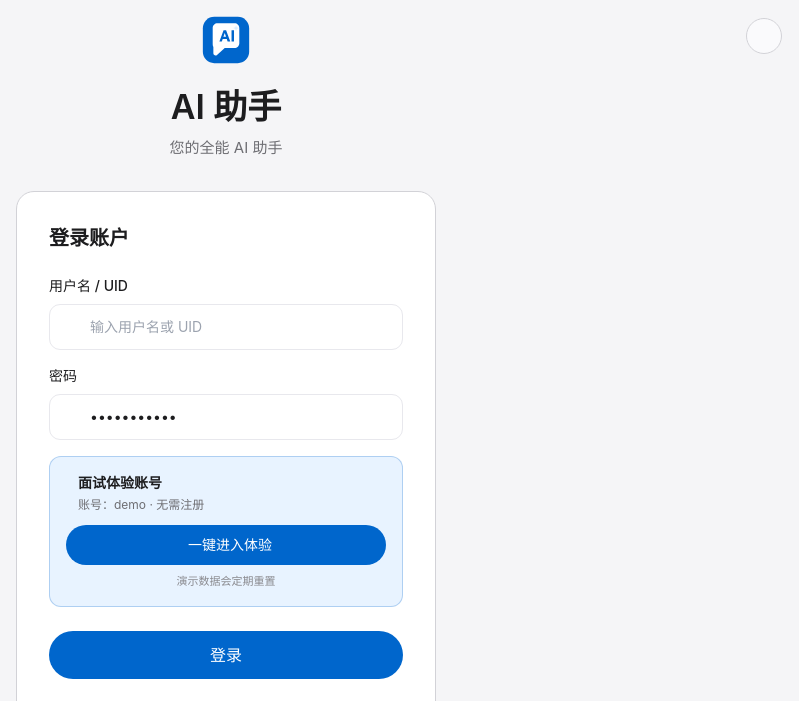
Test: Login › 体验账号接口冲突时给出维护提示
Click the button "一键进入体验".
click(226, 545)  # box [66,525,386,565]
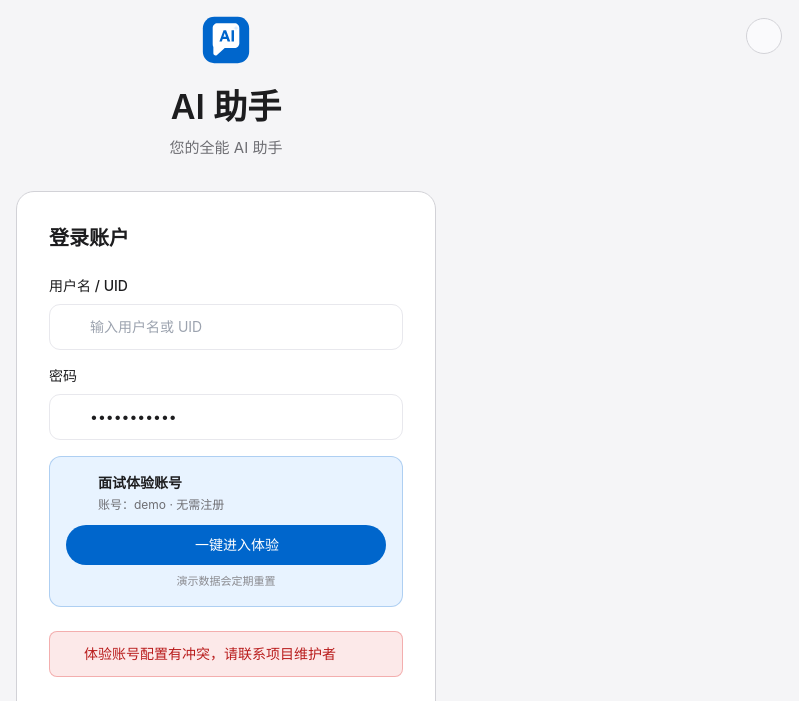
Result: the text "体验账号配置有冲突，请联系项目维护者" is shown at [62,644,336,662]
